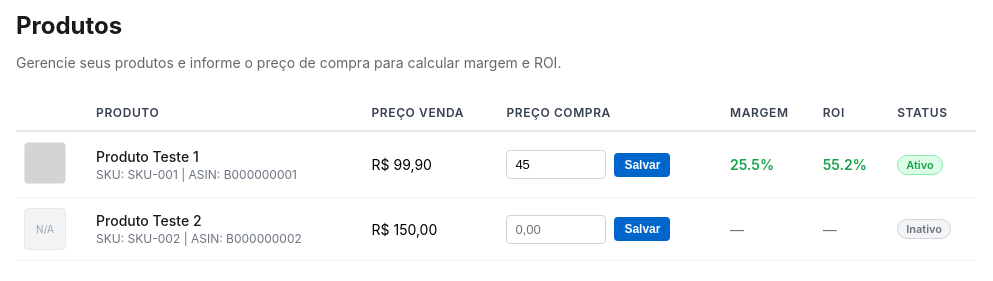
it: ProductsPage › shows error when save fails
Check: the text "Produto Teste 2" is shown, box [96,212,202,229]
Type "50" into the field with placeholder "0,00". click: (556, 229)
box: [506,215,606,244]
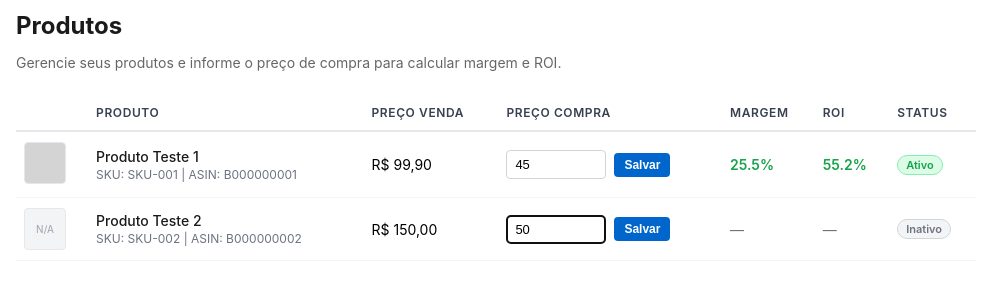
Click the button "Salvar" in the row of "N/A". click: (642, 229)
box: [614,217,670,241]
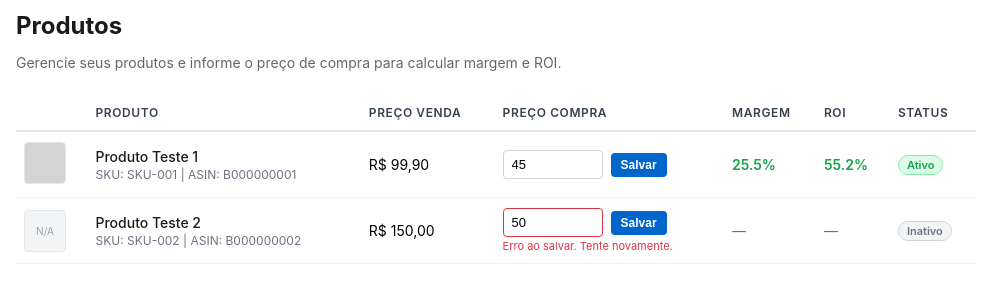
Check: the text "Erro ao salvar. Tente novamente." is shown, box [503,239,673,253]
